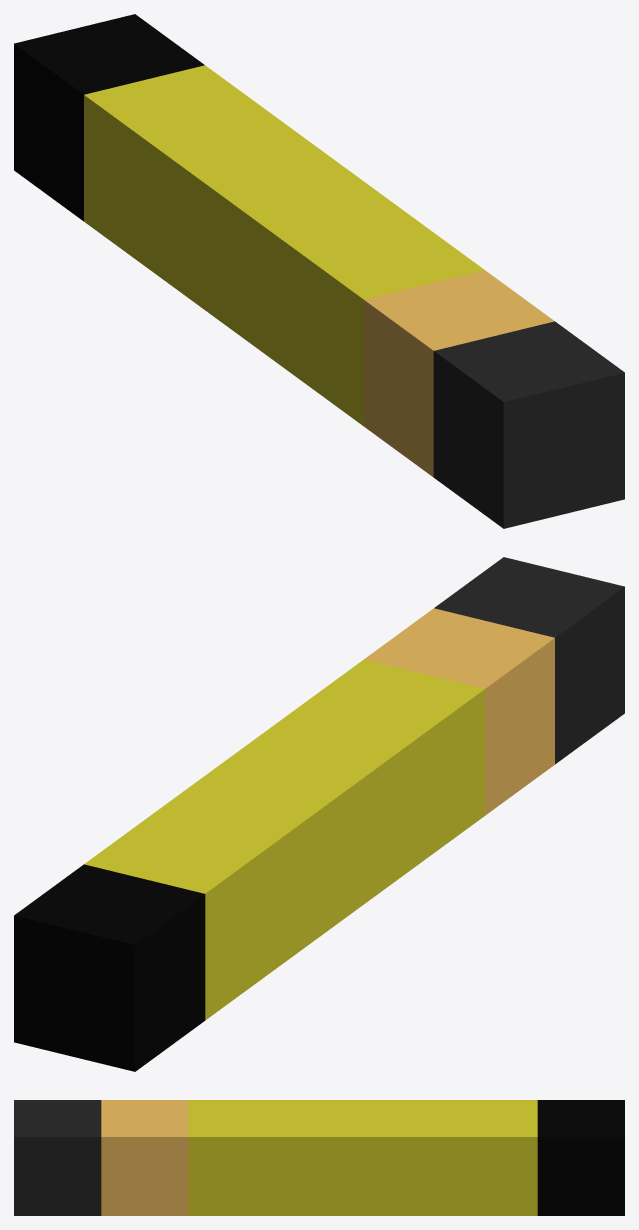
The model's file is pencil_01.glb.
The picture shows the model from 3 angles, top to bottom: view 1: azimuth 30°, elevation 25°; view 2: azimuth 150°, elevation 25°; view 3: azimuth 270°, elevation 25°; orthographic projection. The views are drawn at different scales.
Parts seen in each view (by area): view 1: Untitled; view 2: Untitled; view 3: Untitled.
Boxes of the visible parts, left/top/right/bottom form: Untitled: left=14, top=14, right=624, bottom=528; Untitled: left=14, top=557, right=624, bottom=1071; Untitled: left=14, top=1100, right=624, bottom=1215.
Size of the model in its own units: 0.03 by 0.03 by 0.21.
1 material, 1 textured.
